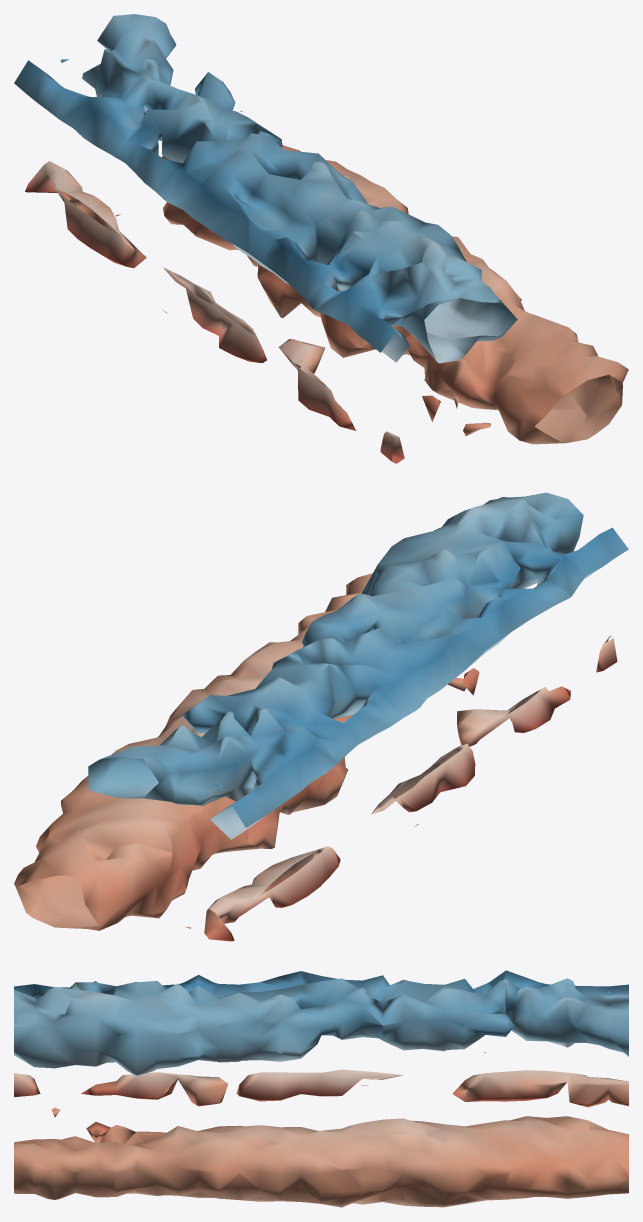
3 views of the same model, one above another, from view 1: azimuth 30°, elevation 25°; view 2: azimuth 150°, elevation 25°; view 3: azimuth 270°, elevation 25° (orthographic). The views are drawn at different scales.
Bounding box in the file's own units: 1.04 × 0.7936 × 2.5.
